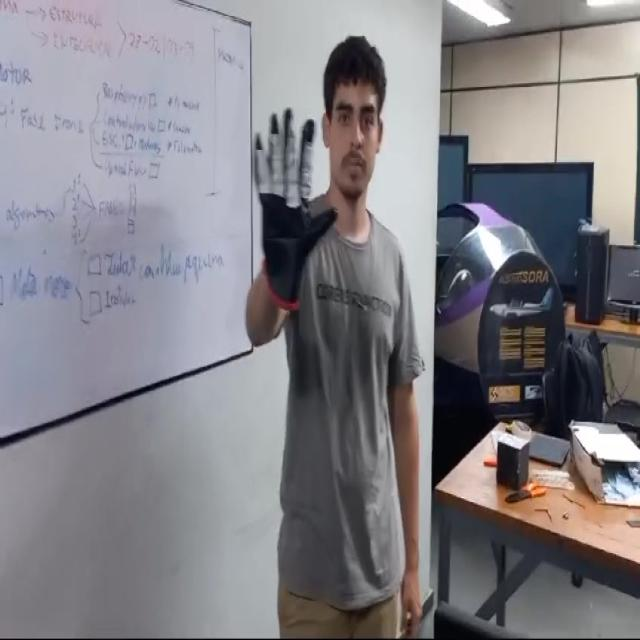Gloves: (245, 100, 334, 302)
